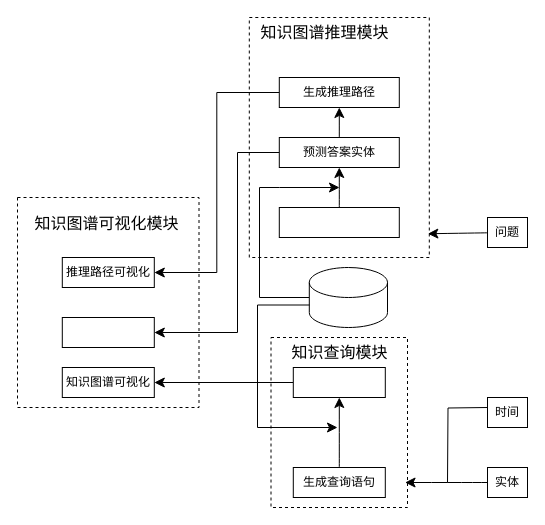
Some shapes in this 545 by 525 pixel diagram are drawn without their labels. The shapes that lost their labels are listed below. From the top down, each one's centre as x and y in pixels, then its label:
[338,222]: 实体、关系、时间信息抽取
[348,297]: 时序知识图谱
[107,332]: 查询结果可视化
[338,382]: 返回查询结果
